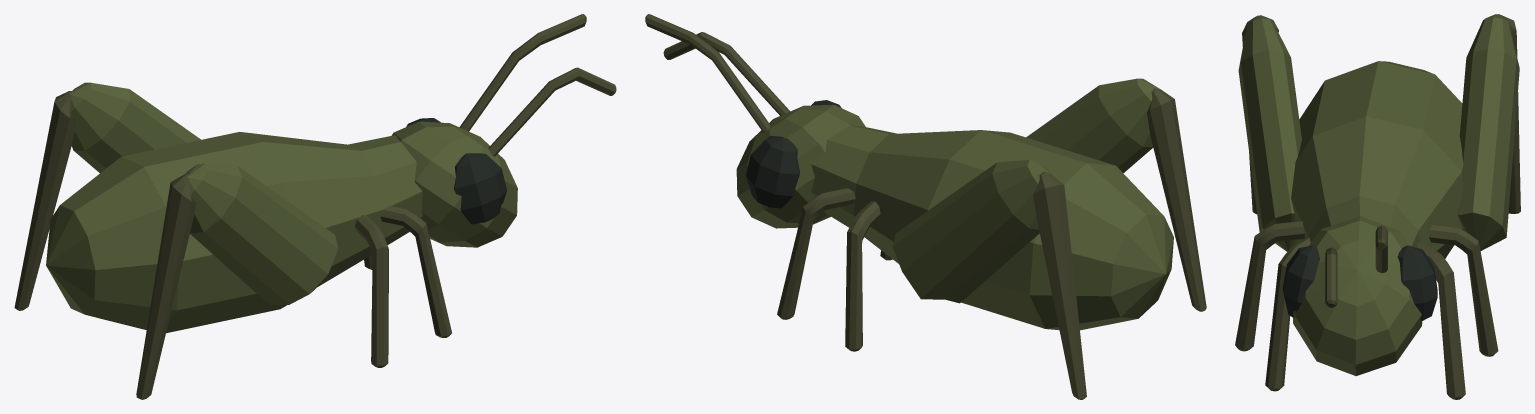
The model's file is Cricket_Enemy.fbx.
3 renders of one model, left to right at view 1: azimuth 30°, elevation 25°; view 2: azimuth 150°, elevation 25°; view 3: azimuth 270°, elevation 25°, orthographic. The views are drawn at different scales.
Visible parts, largest first — view 1: cricket; view 2: cricket; view 3: cricket.
Boxes of the visible parts, left/top/right/bottom form: cricket: left=14, top=14, right=616, bottom=399; cricket: left=645, top=14, right=1206, bottom=399; cricket: left=1235, top=14, right=1520, bottom=399.
Size of the model in its own units: 290 by 122 by 128.
